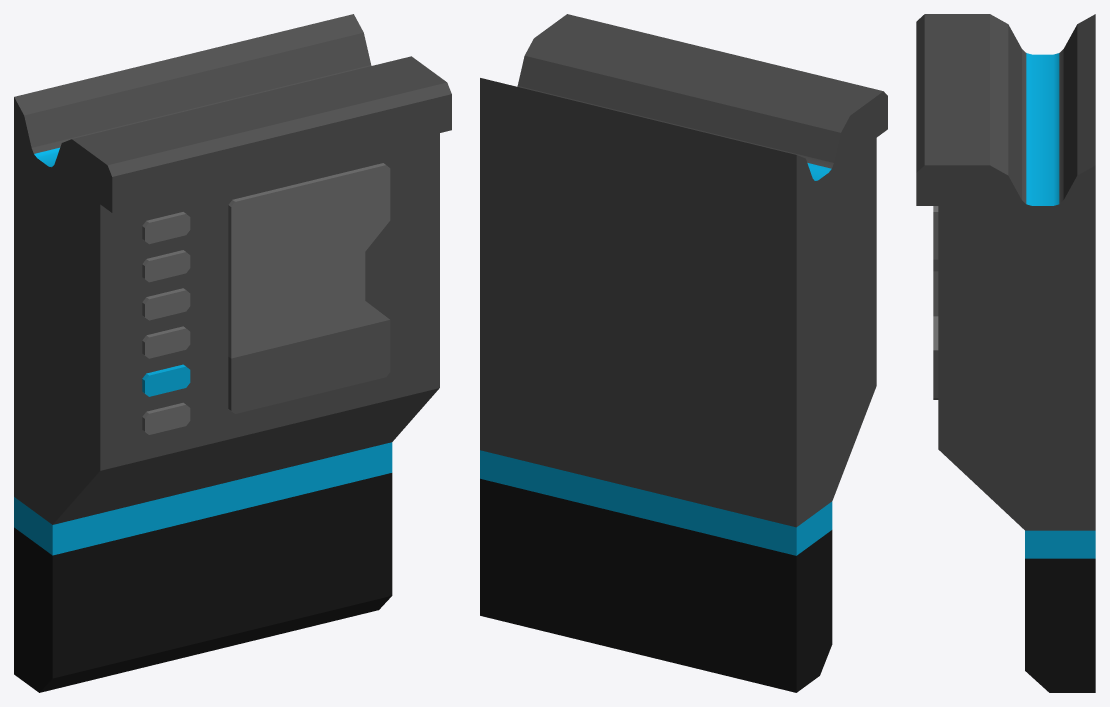
File: Floor_Edge_01x2H.fbx
The picture shows the model from 3 angles, left to right: view 1: azimuth 30°, elevation 25°; view 2: azimuth 150°, elevation 25°; view 3: azimuth 270°, elevation 25°; orthographic projection. The views are drawn at different scales.
Parts seen in each view (by area): view 1: Floor_Edge_01x2H; view 2: Floor_Edge_01x2H; view 3: Floor_Edge_01x2H.
Part boxes in pixels (x1,y1,x2,y2): Floor_Edge_01x2H: [14, 14, 451, 692]; Floor_Edge_01x2H: [480, 14, 887, 692]; Floor_Edge_01x2H: [916, 14, 1095, 692].
Bounding box in the file's own units: 400 × 650 × 200.
